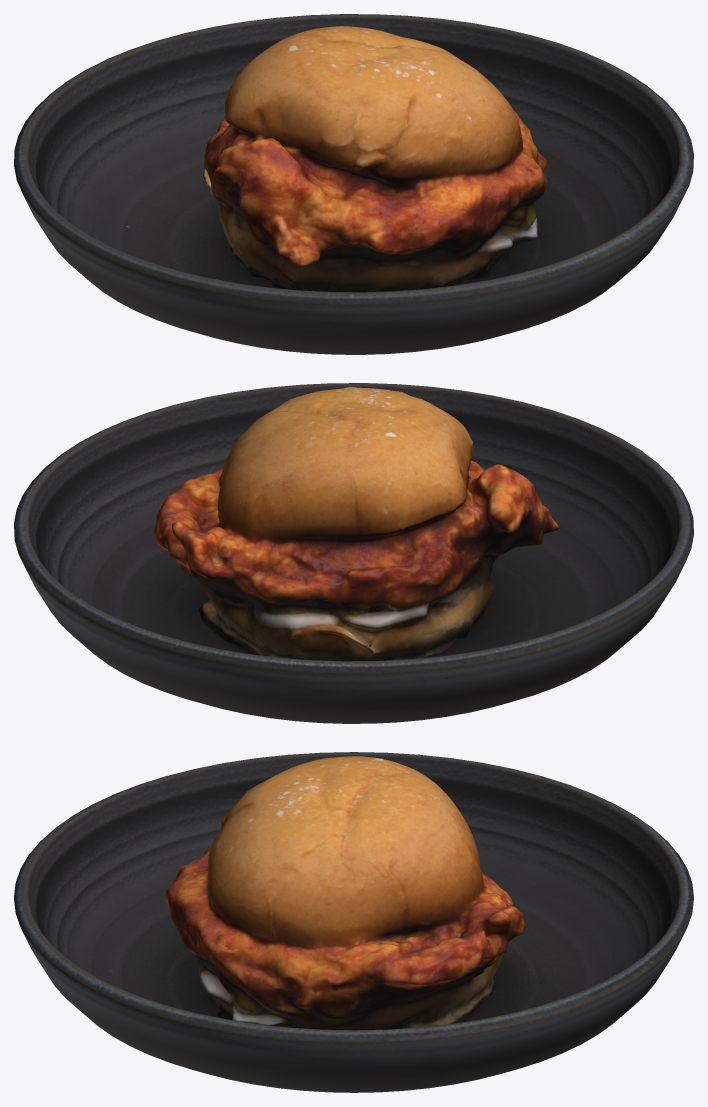
The model's file is Korean_Fried_(red_radish_white).FBX.
3 views of the same model, one above another, from view 1: azimuth 30°, elevation 25°; view 2: azimuth 150°, elevation 25°; view 3: azimuth 270°, elevation 25° (orthographic).
Parts seen in each view (by area): view 1: Korean Fried (red, radish, white); view 2: Korean Fried (red, radish, white); view 3: Korean Fried (red, radish, white).
Boxes of the visible parts, box(x1,y1,x2,y2) form: Korean Fried (red, radish, white): box(14, 14, 693, 354); Korean Fried (red, radish, white): box(14, 383, 693, 723); Korean Fried (red, radish, white): box(14, 752, 693, 1092).
Size of the model in its own units: 4.27 by 1.51 by 4.27.
Materials: 1 (1 with a texture image).
